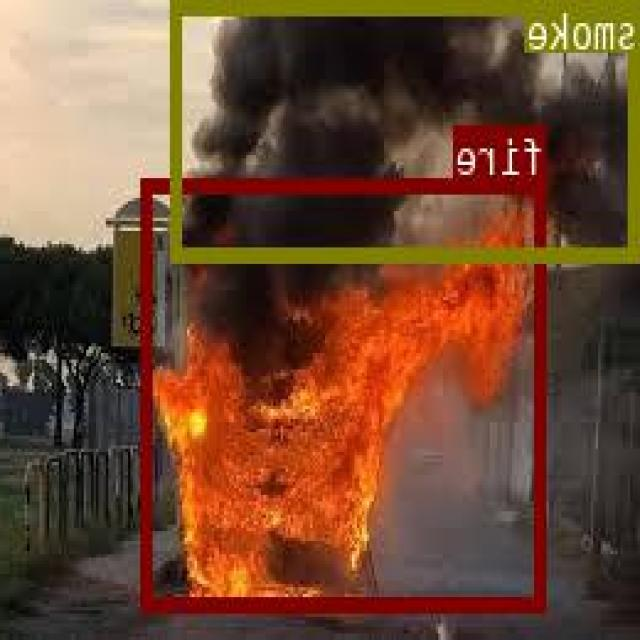fire: (143, 178, 547, 610)
smoke: (175, 0, 640, 257)
